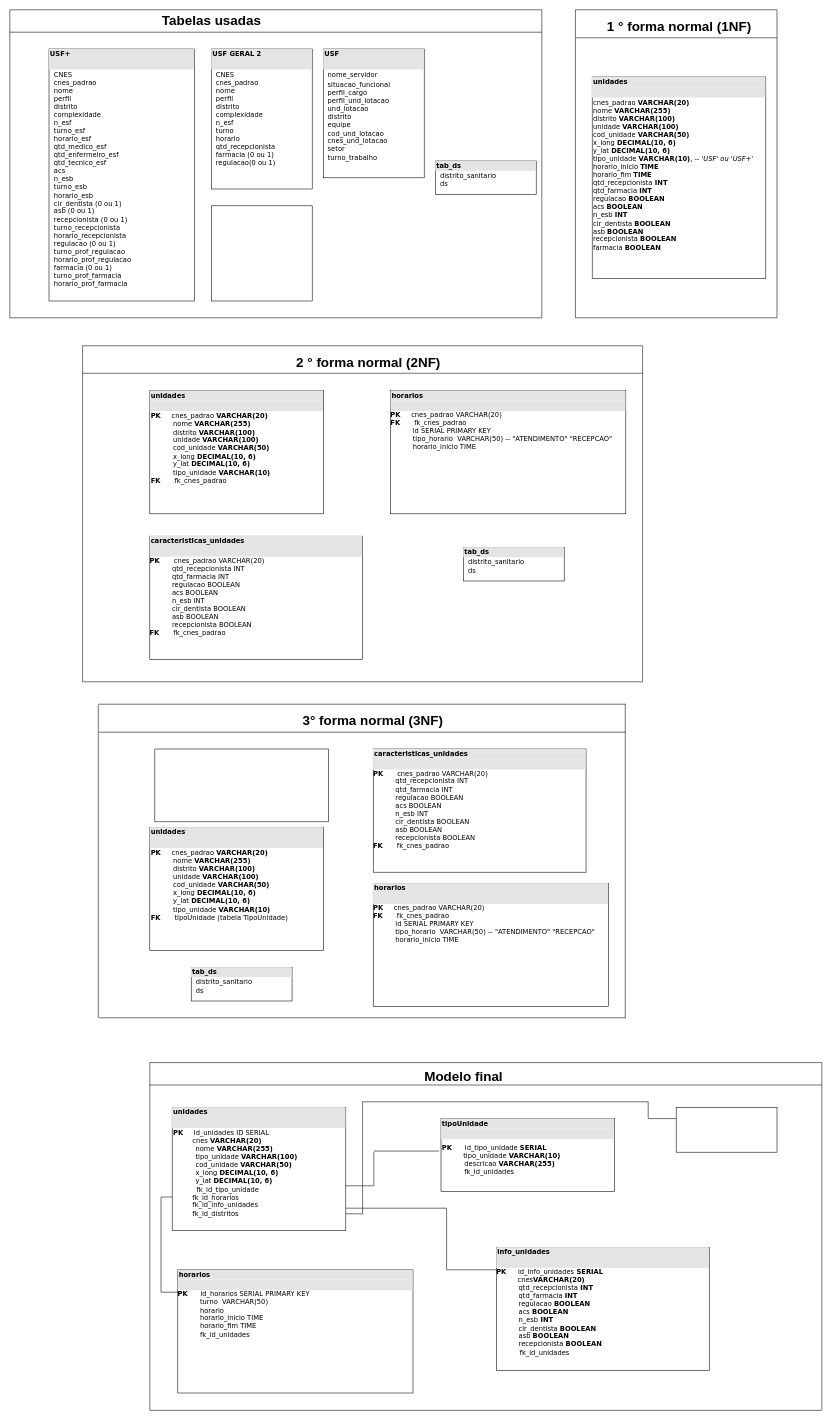
This 832x1421 diagram has some shape labels left out. Here are the shapes that lost their labels. From the top down, the centre of each, then its label:
At point (261, 253): "unidades CNES nome distrito unidade cod_unidade x_long y_lat".
At point (241, 785): "tipoUnidade PK tipo_unidade VARCHAR(10) descricao VARCHAR(255)".
At point (726, 1129): "distritos PK id_distrito nome_distrito sigla_distrito fk_id_unidades".
